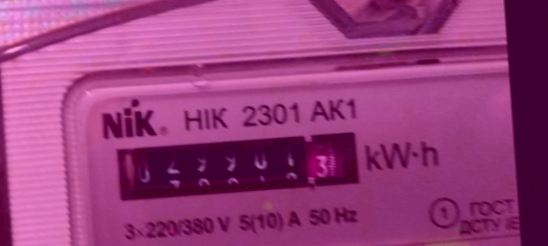0: (132, 156, 152, 185), (251, 142, 269, 172)
1: (281, 139, 296, 168)
2: (162, 148, 182, 177)
3: (311, 152, 330, 179)
9: (192, 146, 210, 174), (223, 145, 238, 173)
screen: (106, 121, 370, 211)
